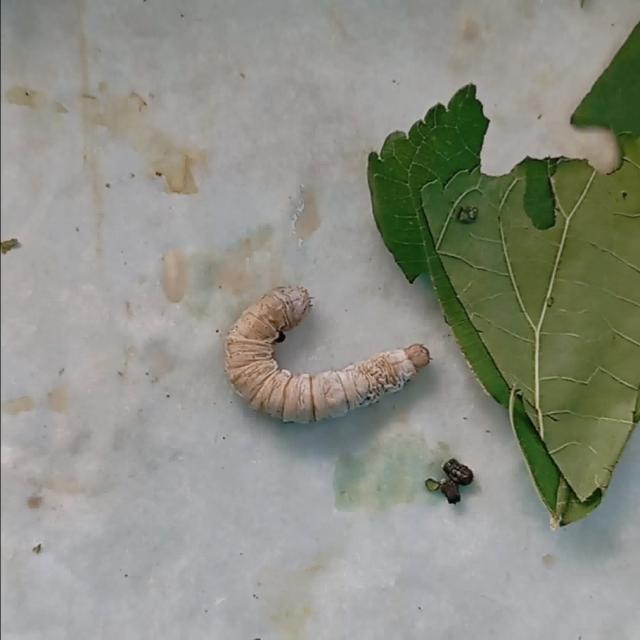Grasserie: (216, 268, 440, 433)
